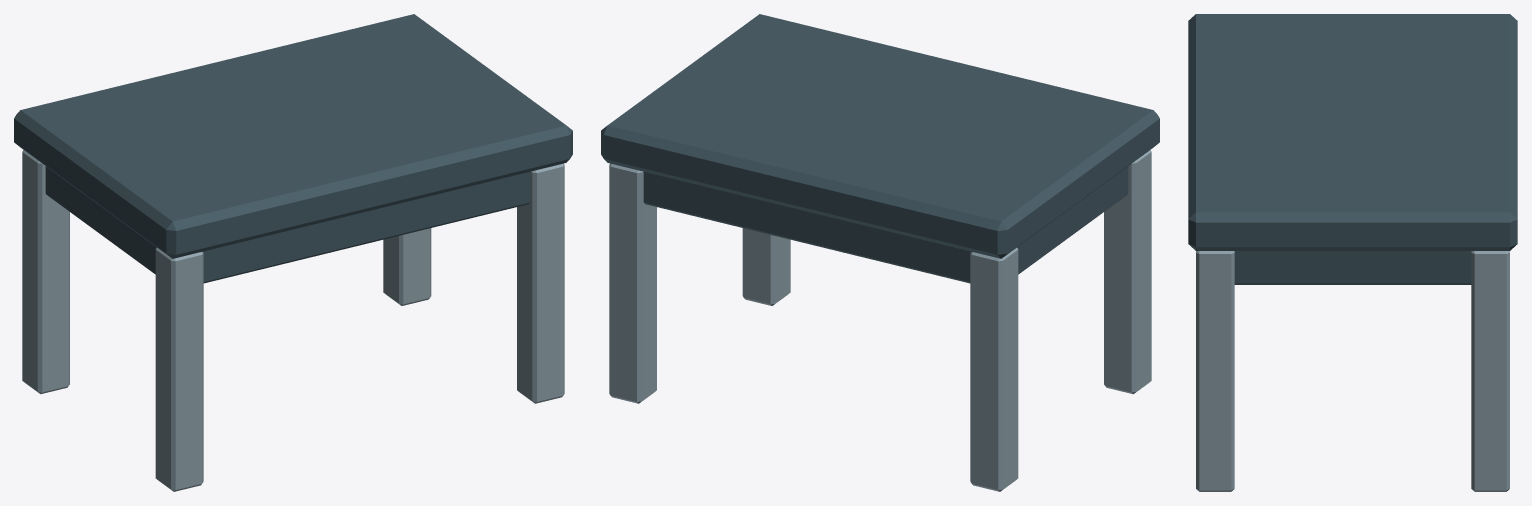
File: table_couloir.glb
3 renders of one model, left to right at view 1: azimuth 30°, elevation 25°; view 2: azimuth 150°, elevation 25°; view 3: azimuth 270°, elevation 25°, orthographic. The views are drawn at different scales.
Visible parts, largest first — view 1: table_couloir; view 2: table_couloir; view 3: table_couloir.
Part boxes in pixels (x1,y1,x2,y2): table_couloir: (14, 14, 572, 491); table_couloir: (601, 14, 1159, 491); table_couloir: (1188, 14, 1517, 491).
Size of the model in its own units: 1.25 by 0.8 by 0.85.
1 material, 1 textured.
